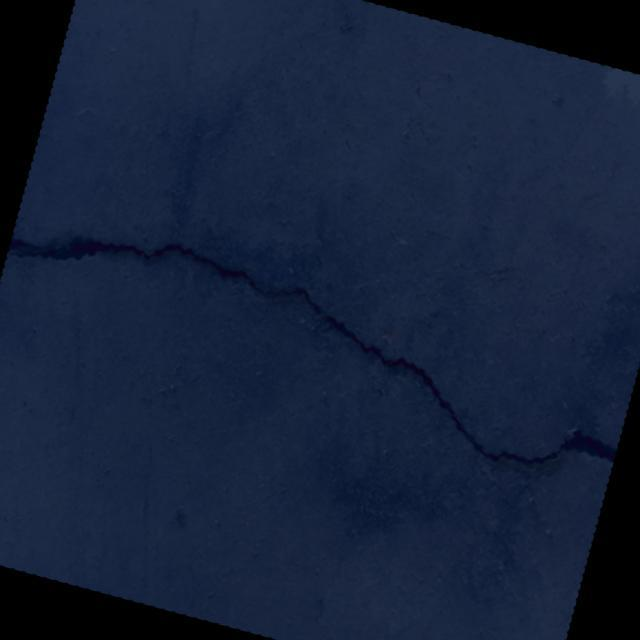crack: (0, 199, 639, 492)
